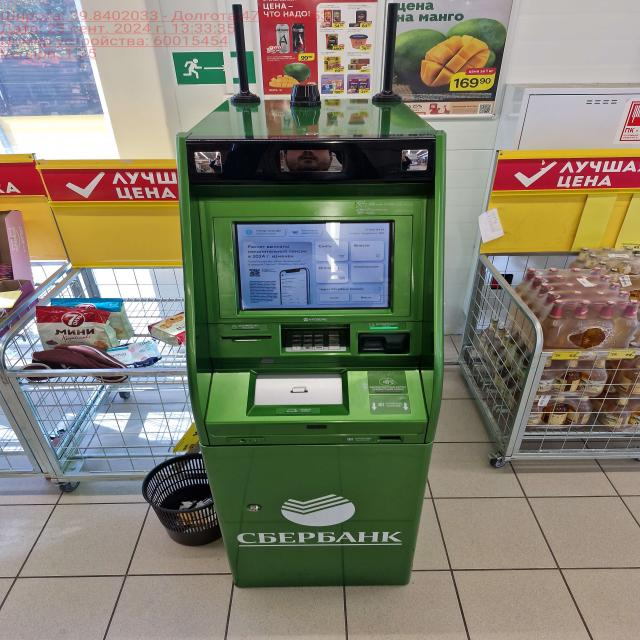bank: (178, 96, 457, 588)
